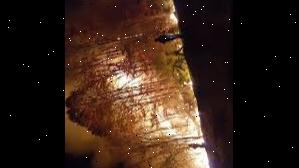fire: (80, 48, 215, 168), (127, 0, 180, 28)
